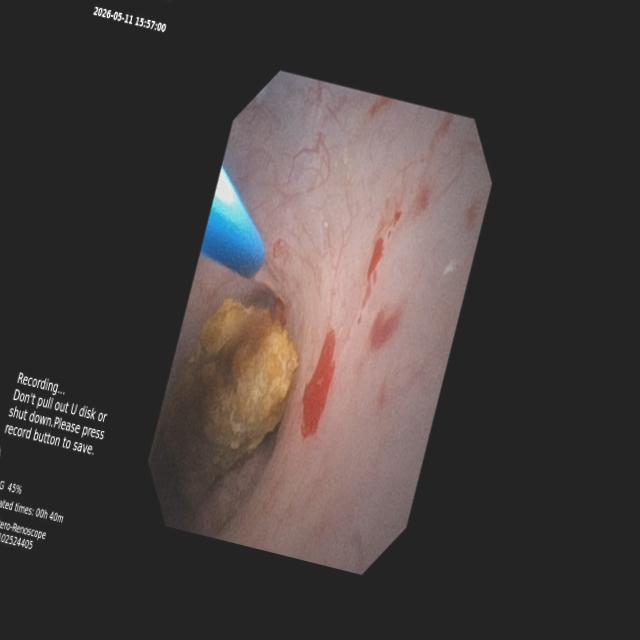laser-fibre: (255, 257, 281, 292)
stone-new: (165, 297, 298, 507)
